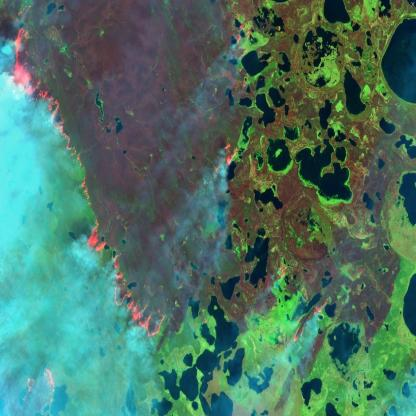fire: (0, 0, 169, 416), (229, 11, 258, 103), (206, 125, 246, 185), (289, 297, 331, 351)
